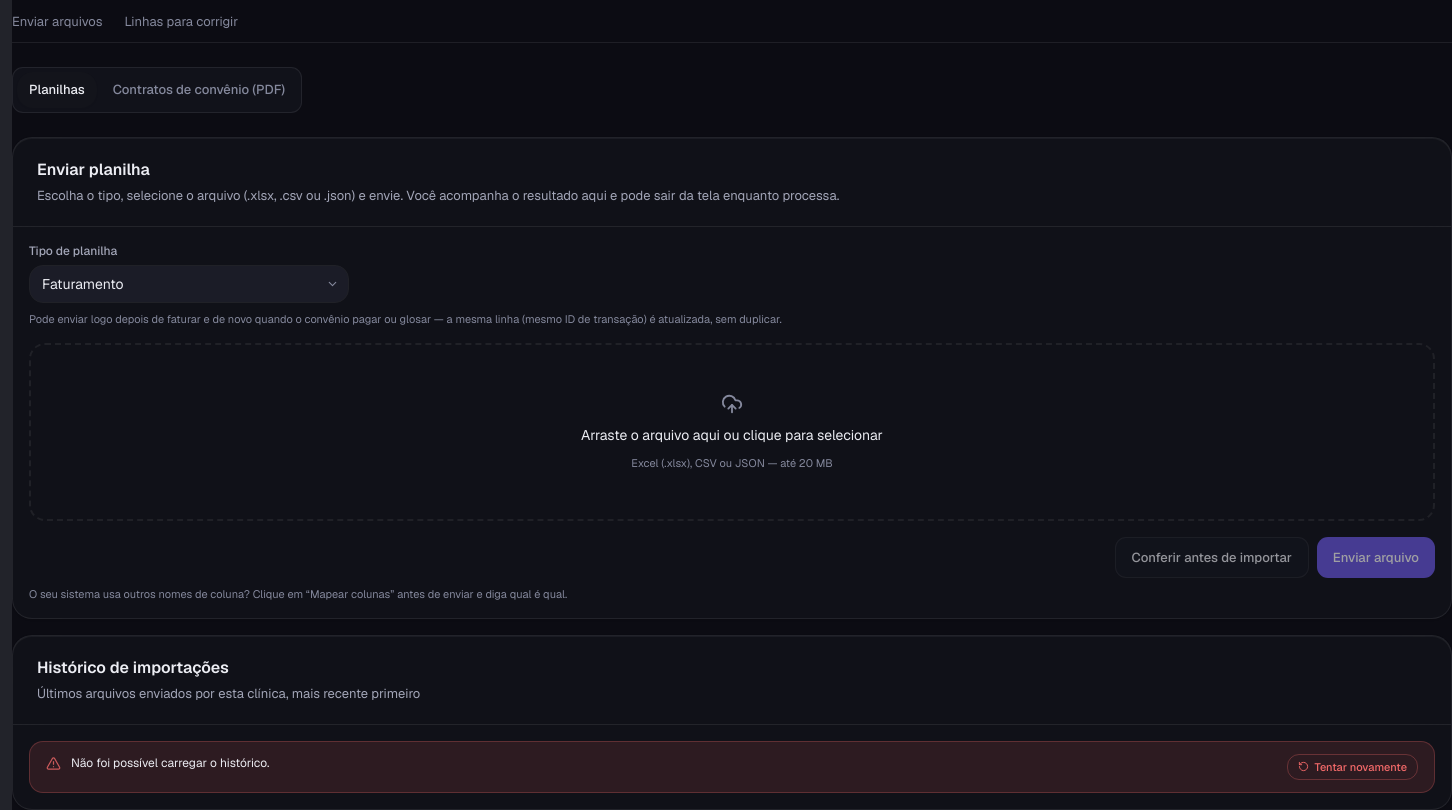
Test: UploadCenterPage — aba Planilhas › mostra erro com tentar de novo quando o histórico falha ao carregar
This screenshot has width=1452, height=810.
(page scrolled)
Expected: the text "Não foi possível carregar o histórico." is shown, [71,754,270,773]
What coordinates should you click on to do the following:
click the button "Tentar novamente"
I would click on:
 (1352, 766)
Its box is [1286,754,1418,780].
(page scrolled)
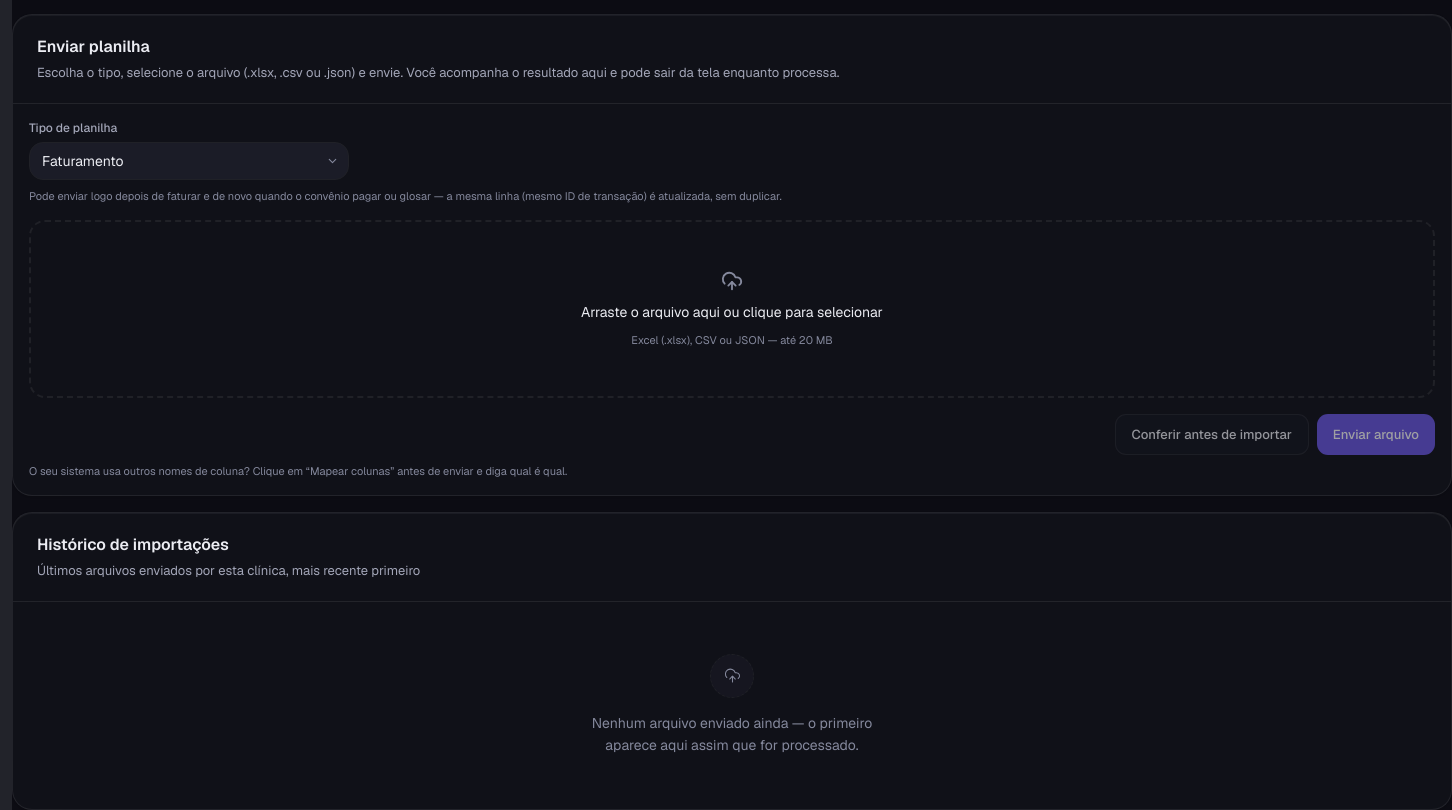
Expected: the text "Nenhum arquivo enviado ainda — o primeiro aparece aqui assim que for processado." is shown, [572,712,892,757]
